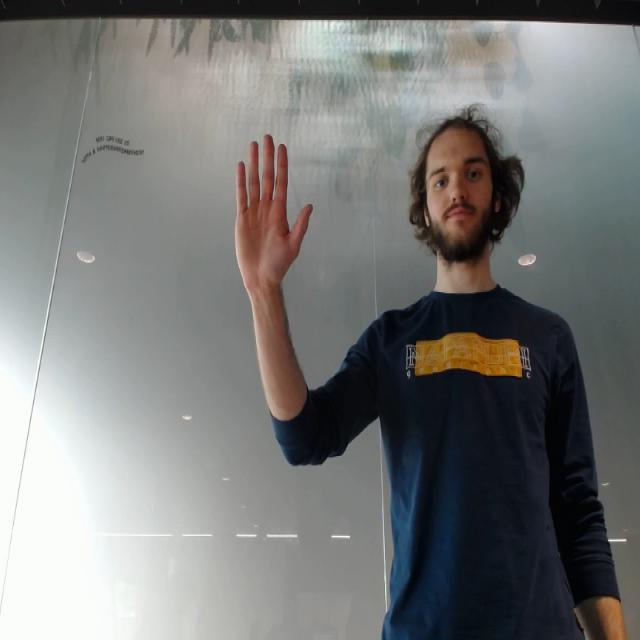backward: (231, 128, 317, 300)
